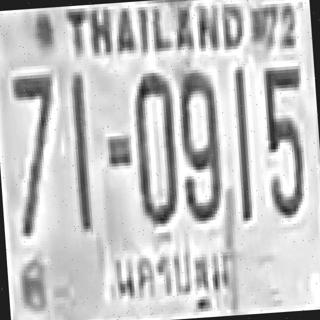N00: (130, 70, 182, 224)
N07: (10, 72, 56, 178)
N09: (174, 67, 224, 220)
P28: (104, 240, 235, 317)
